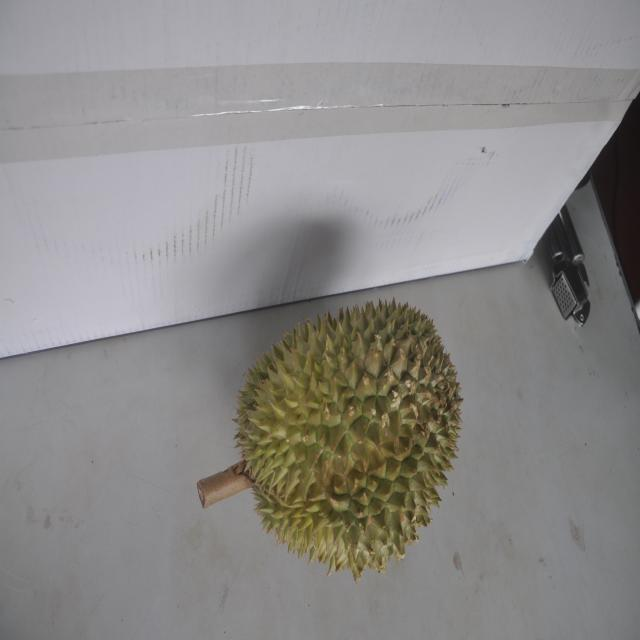mature: (219, 293, 455, 577)
